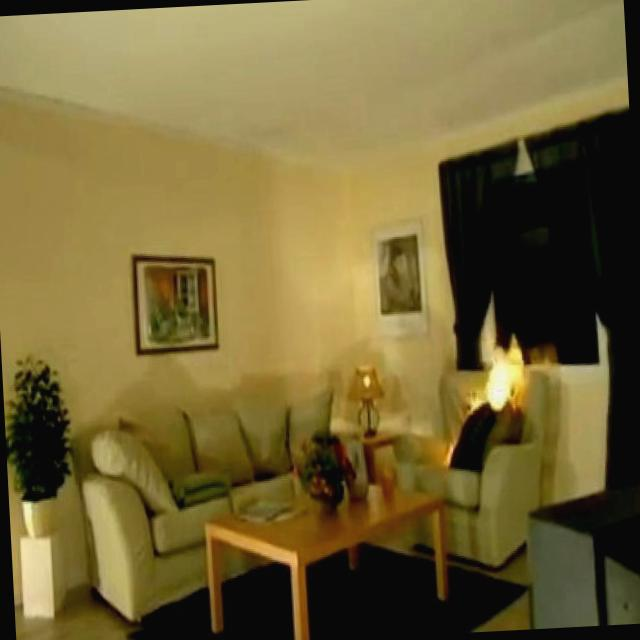fire: (424, 320, 553, 506)
